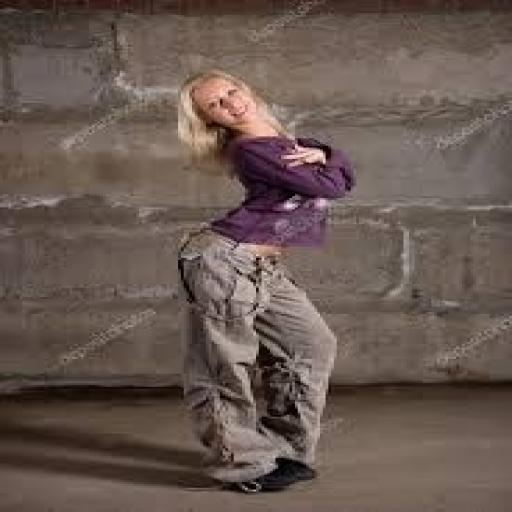dancing: (170, 68, 359, 494)
